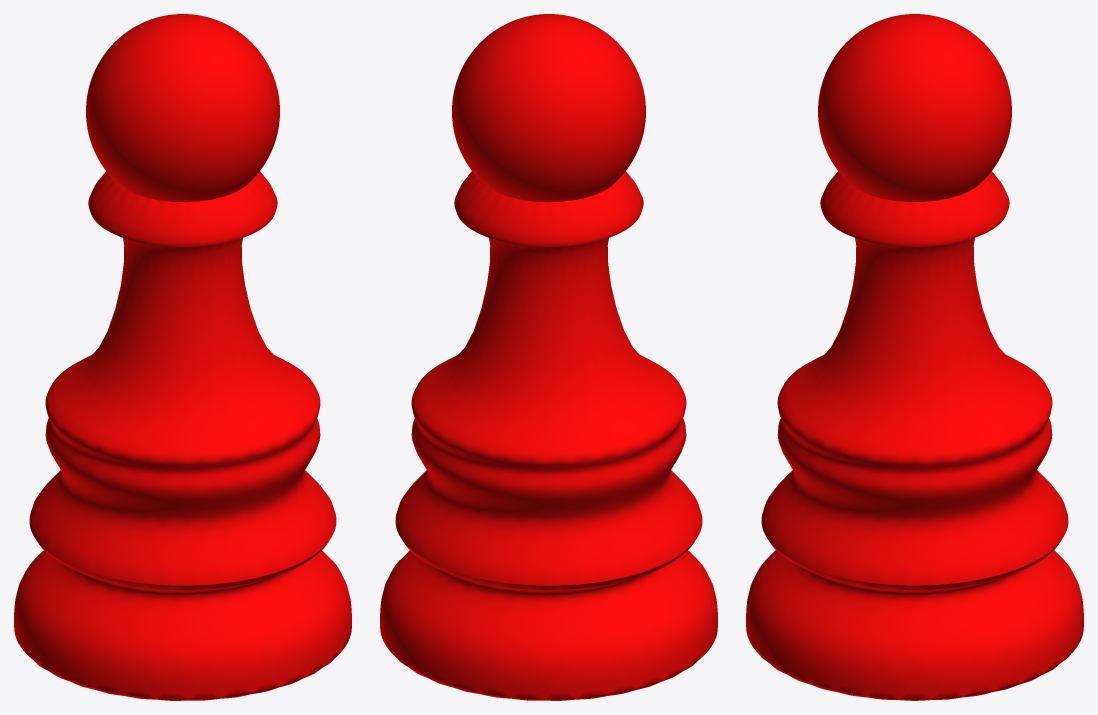
The model's file is red_pawn.glb.
3 renders of one model, left to right at view 1: azimuth 30°, elevation 25°; view 2: azimuth 150°, elevation 25°; view 3: azimuth 270°, elevation 25°, orthographic.
Visible parts, largest first — view 1: Sketchfab Model; view 2: Sketchfab Model; view 3: Sketchfab Model.
Part boxes in pixels (bbox=[...]): Sketchfab Model: bbox=[14, 14, 351, 700]; Sketchfab Model: bbox=[380, 14, 717, 700]; Sketchfab Model: bbox=[746, 14, 1083, 700].
Size of the model in its own units: 0.7867 by 1.58 by 0.7867.
